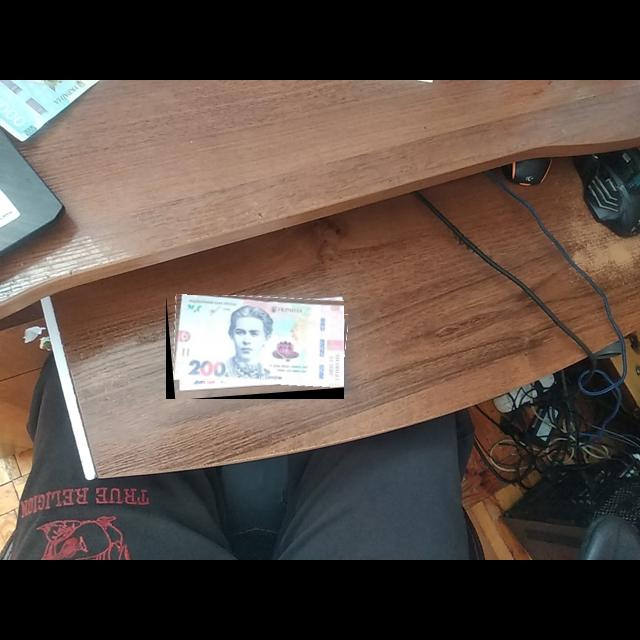200uah: (172, 295, 345, 390)
